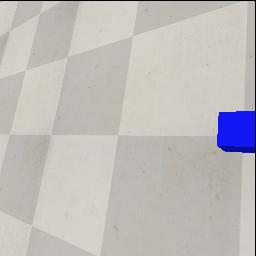box: (217, 110, 255, 153)
